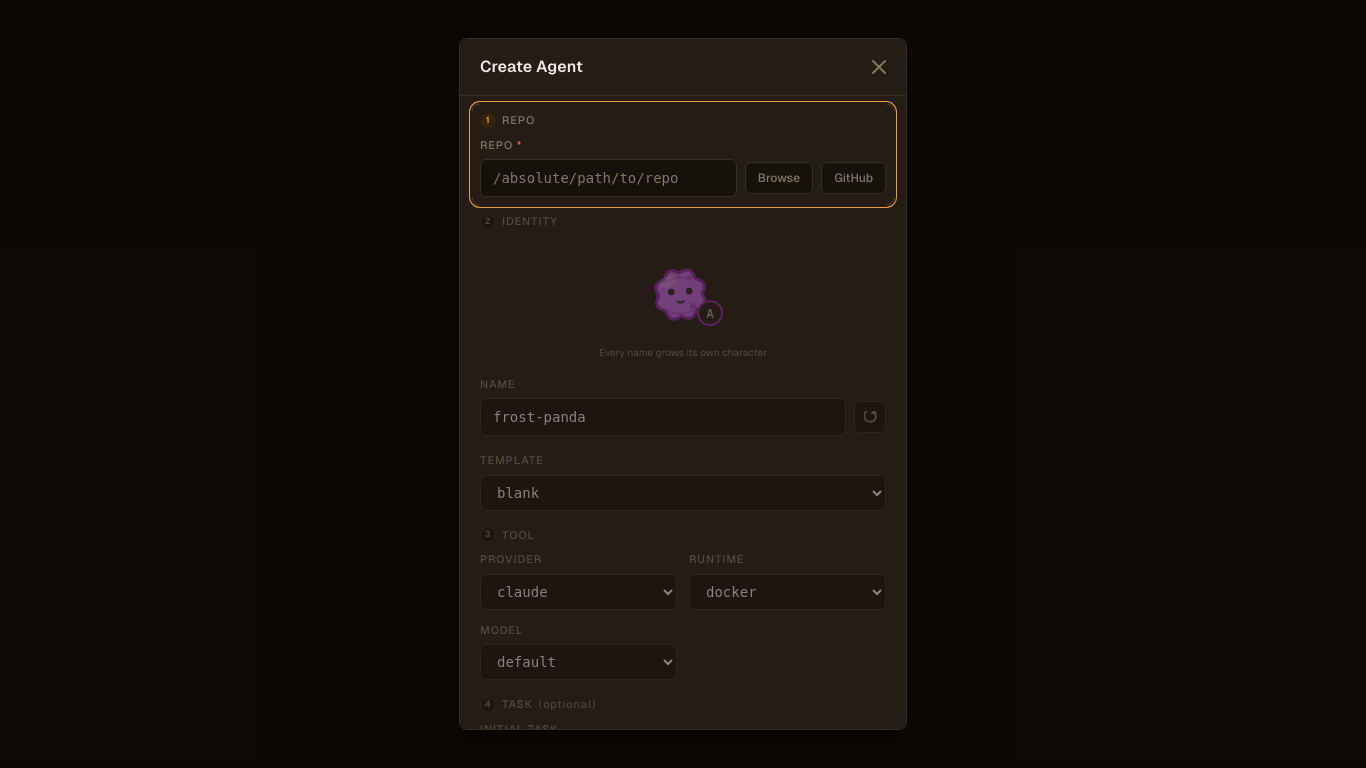
Test: CreateAgentModal readiness pre-flight › warns with the install fix when the selected provider isn't installed
Select "codex" in the dropdown named "Provider" at [578, 592], box [480,574,677,610]
(page scrolled)
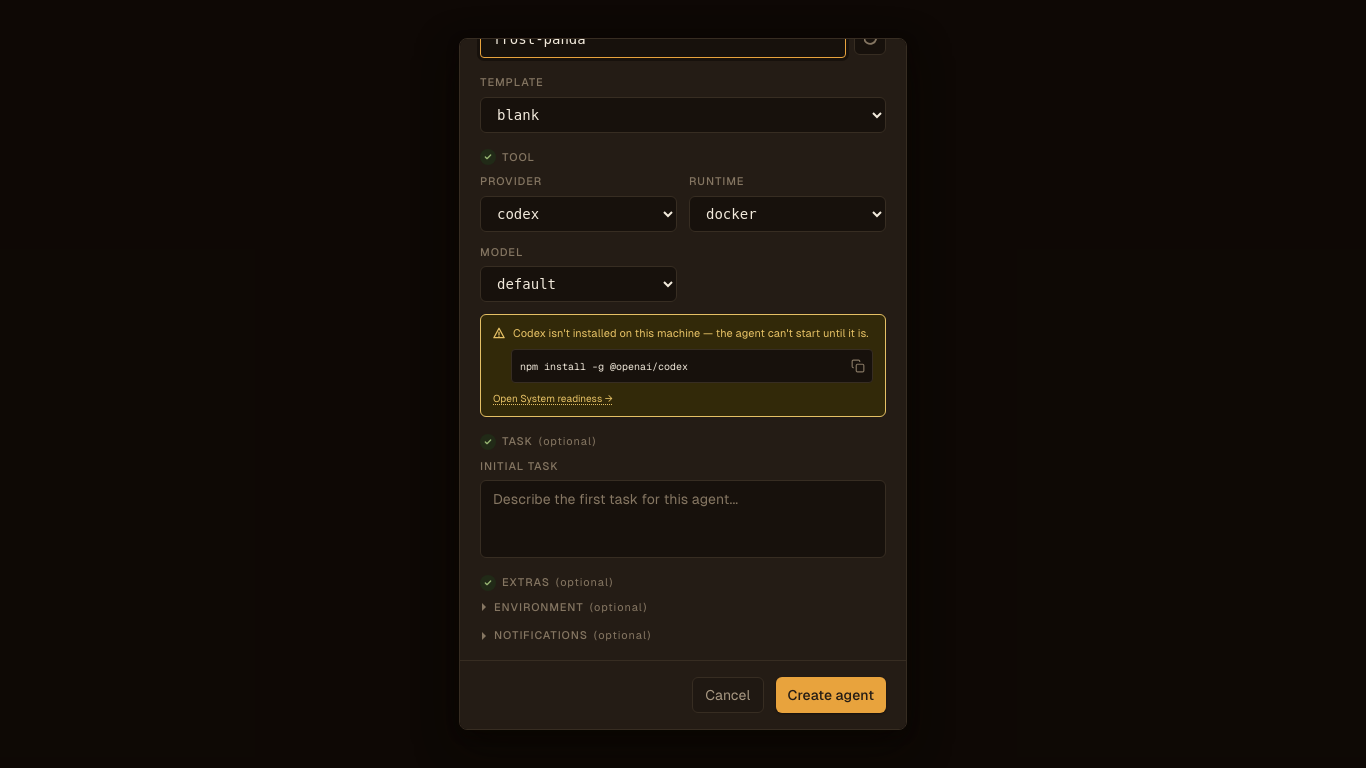
expect the text "isn't installed on this machine" is shown: met, box [513,327,868,339]
expect the text "npm install -g @openai/codex" is shown: met, box [520,360,688,373]
expect the button "Open System readiness →" is shown: met, box [493,391,613,406]
